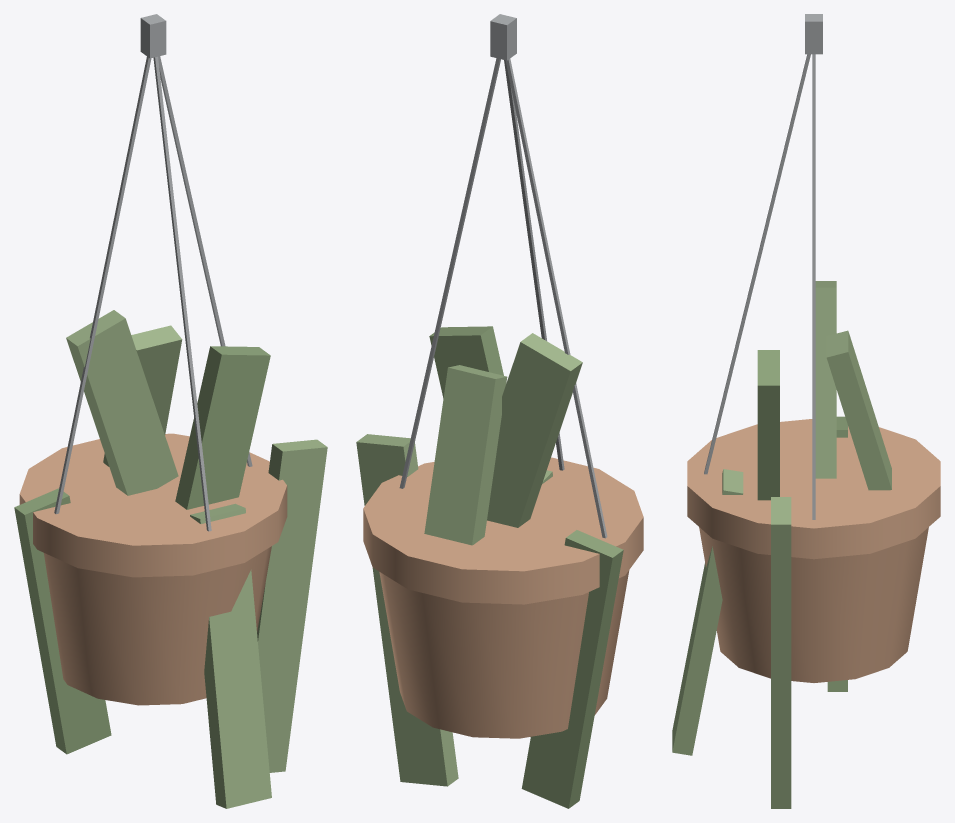
Rendered from hanging-plant.gltf.
3 renders of one model, left to right at view 1: azimuth 30°, elevation 25°; view 2: azimuth 150°, elevation 25°; view 3: azimuth 270°, elevation 25°, orthographic. The views are drawn at different scales.
Parts seen in each view (by area): view 1: PotLip, Pot, trail_1, trail_3, leaf_up1, leaf_up2, trail_2, leaf_up3, cord_f, cord_l, cord_r, hook; view 2: Pot, PotLip, leaf_up1, leaf_up3, trail_2, trail_1, leaf_up2, cord_l, cord_r, cord_f, hook; view 3: PotLip, Pot, trail_1, trail_3, leaf_up3, leaf_up1, leaf_up2, cord_f, cord_r, hook, trail_2.
Part boxes in pixels (x1,y1,x2,y2): PotLip: (19,433,287,577); Pot: (44,546,271,705); trail_1: (257,439,327,772); trail_3: (190,503,271,808); leaf_up1: (66,310,178,495); leaf_up2: (175,346,270,509); trail_2: (14,488,111,754); leaf_up3: (103,325,182,466); cord_f: (153,56,211,531); cord_l: (54,56,151,514); cord_r: (158,56,252,466); hook: (140,14,166,58); Pot: (379,570,629,738); PotLip: (363,457,643,604); leaf_up1: (487,333,582,527); leaf_up3: (424,365,507,545); trail_2: (521,530,623,808); trail_1: (356,434,458,786); leaf_up2: (429,326,503,398); cord_l: (505,59,607,538); cord_r: (399,58,500,488); cord_f: (504,60,564,470); hook: (490,14,516,60); PotLip: (687,419,940,559); Pot: (699,527,928,682); trail_1: (771,497,791,808); trail_3: (672,469,743,755); leaf_up3: (826,330,891,490); leaf_up1: (815,281,836,478); leaf_up2: (757,350,779,500); cord_f: (704,54,810,474); cord_r: (812,54,815,519); hook: (805,14,822,54); trail_2: (827,416,847,691).
Bounding box in the file's own units: 0.0169 × 0.0451 × 0.0148.
